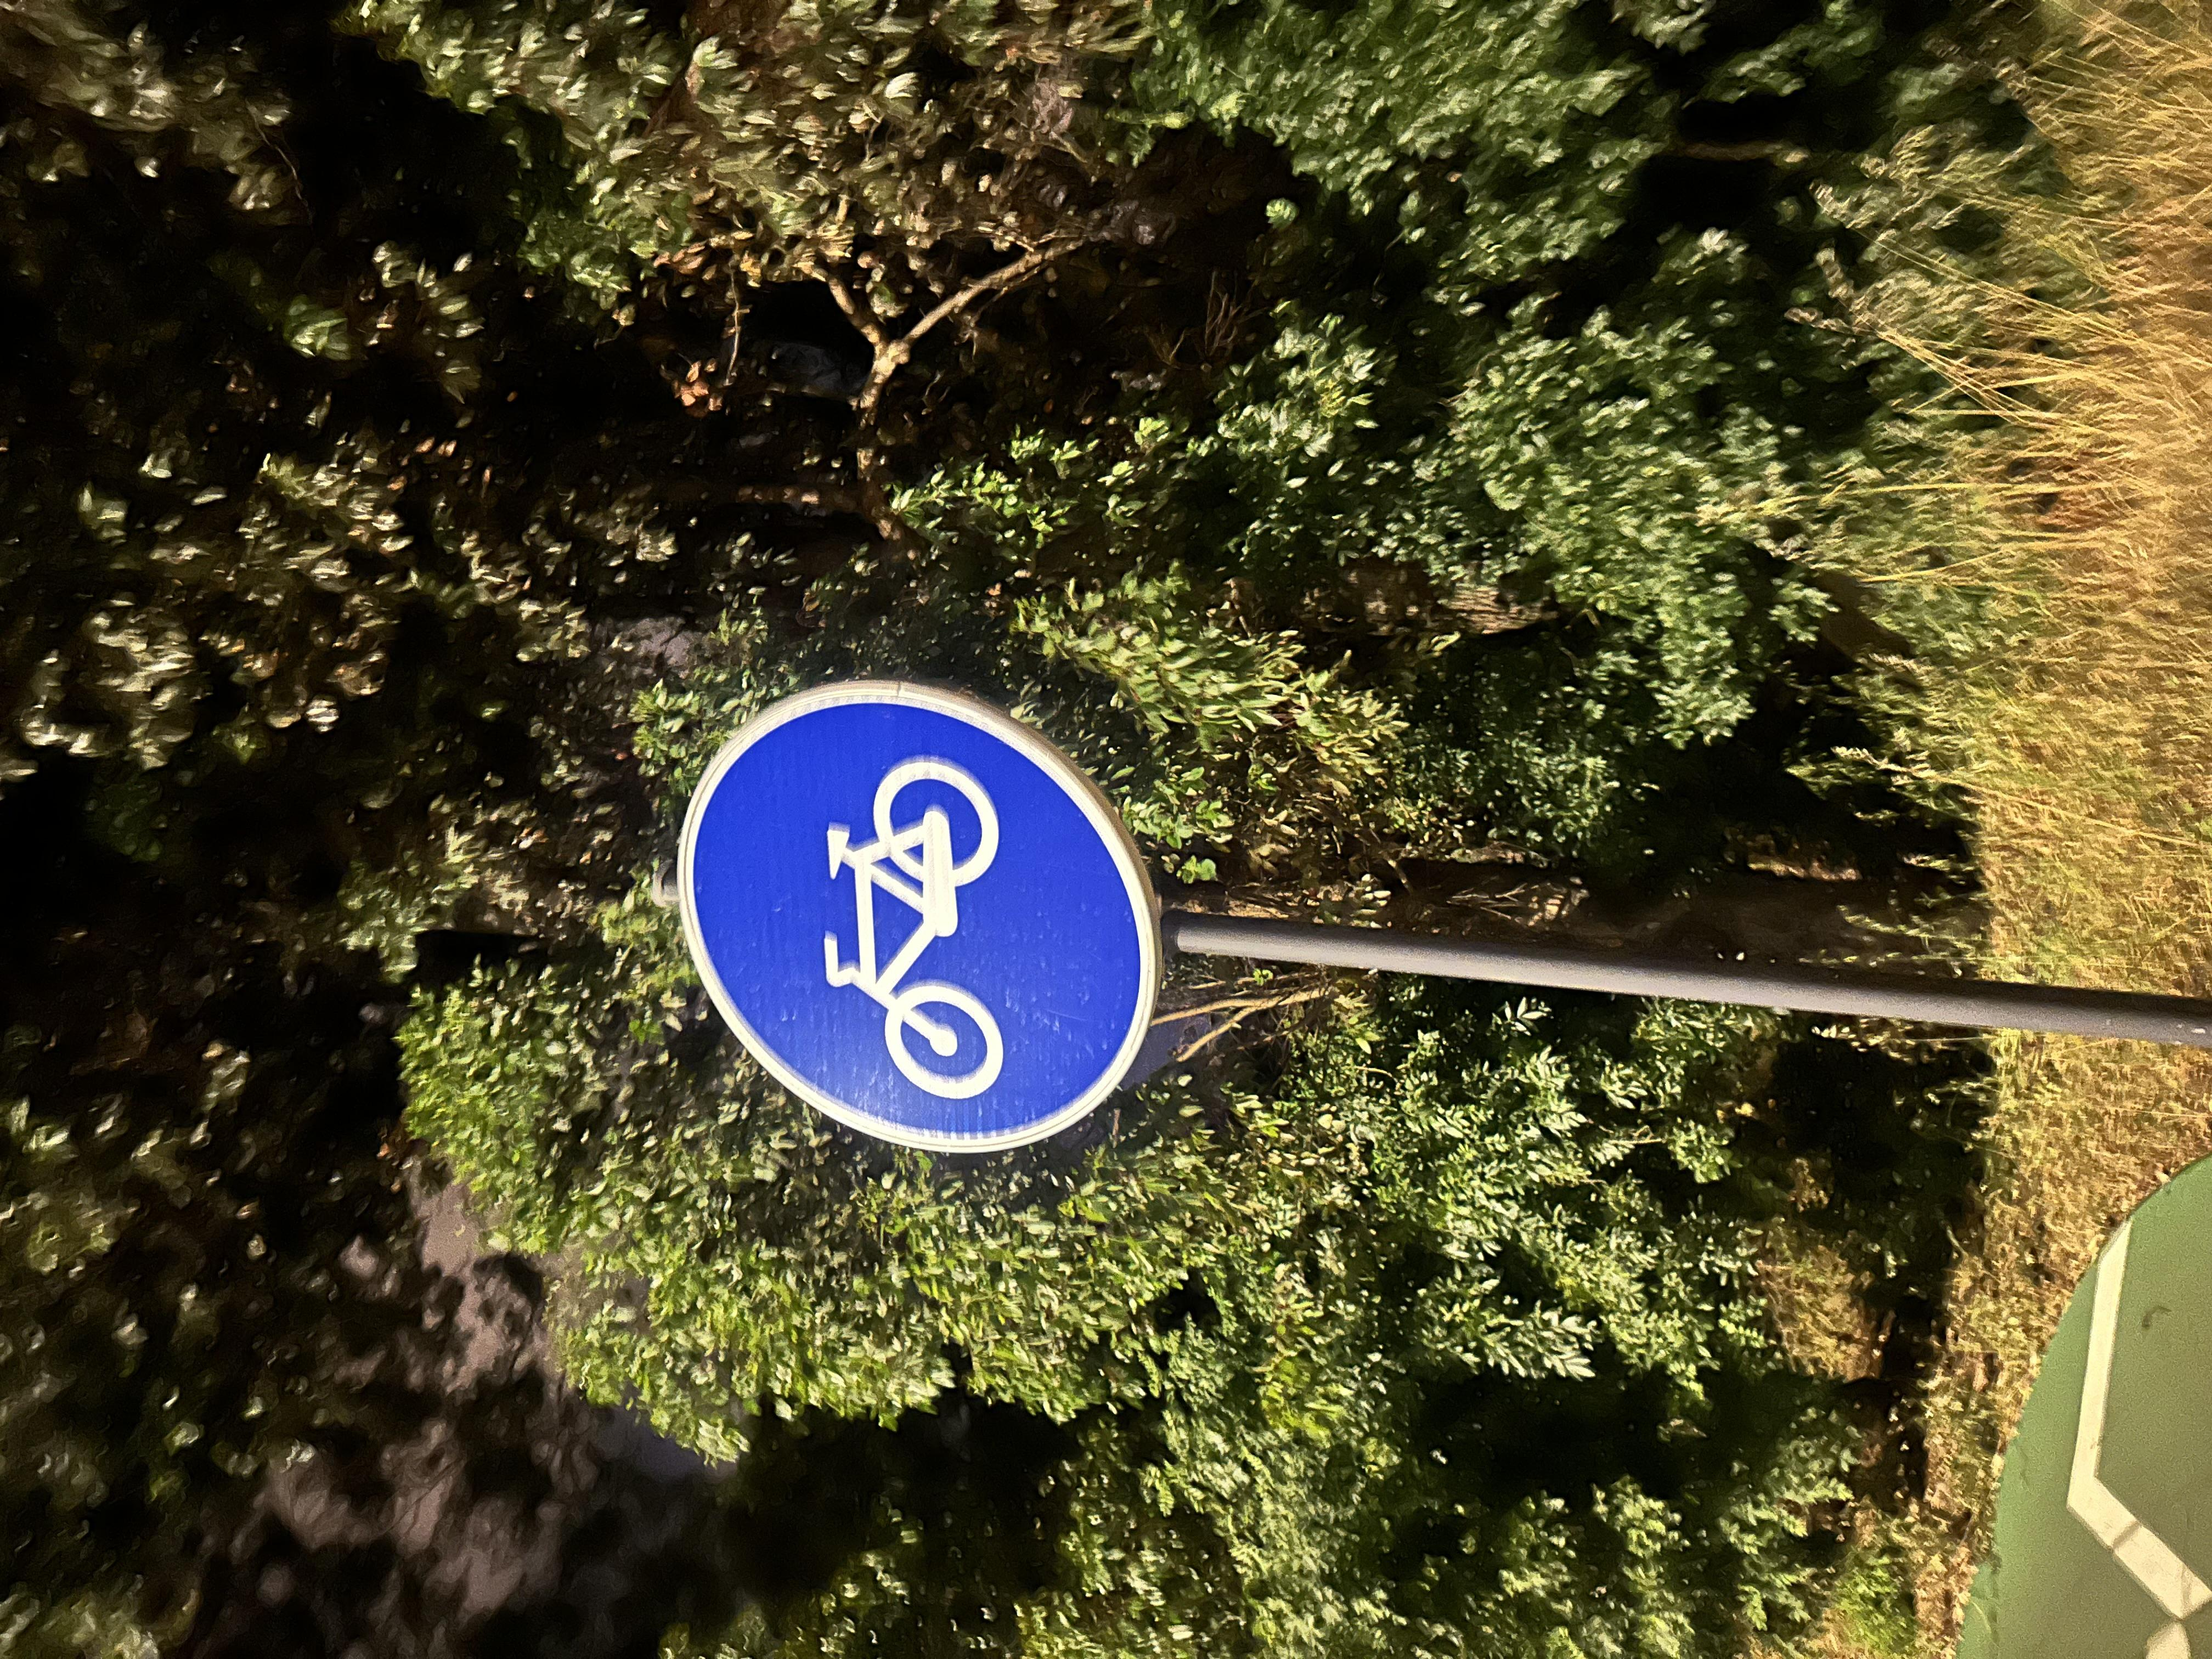fim da pista obrigatoria para velocipedes: (651, 532, 1339, 856)
